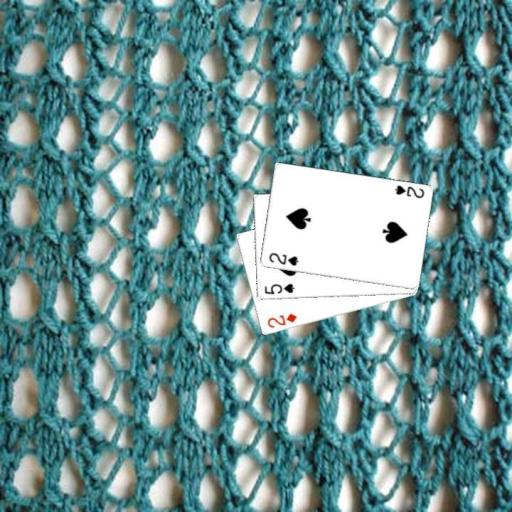2D: (264, 310, 298, 330)
2S: (265, 250, 300, 268), (391, 182, 425, 200)
5S: (261, 281, 295, 296)
